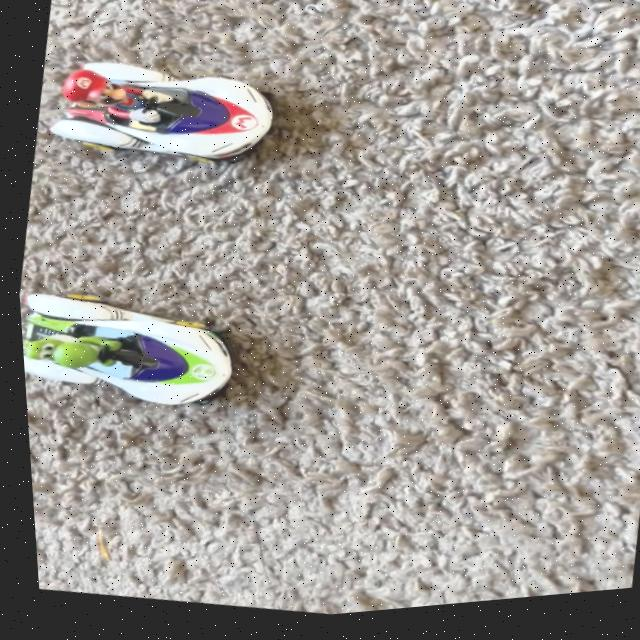mario: (32, 20, 303, 193)
yoshi: (14, 254, 260, 451)
